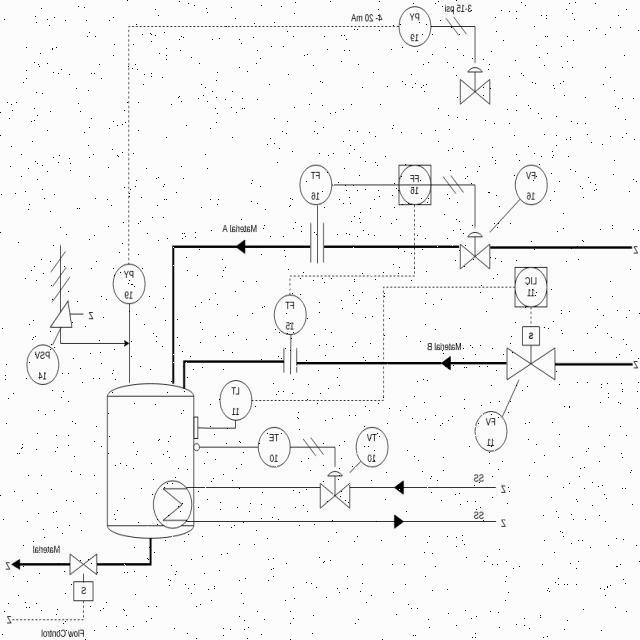Orifice: (293, 211, 335, 271), (274, 336, 304, 384)
Pneumatic-Diaphragm Gate Valve: (444, 56, 504, 117), (314, 466, 352, 519), (456, 228, 492, 278)
Solenoid Operated Gate Valve: (484, 312, 576, 395), (59, 544, 106, 606)
